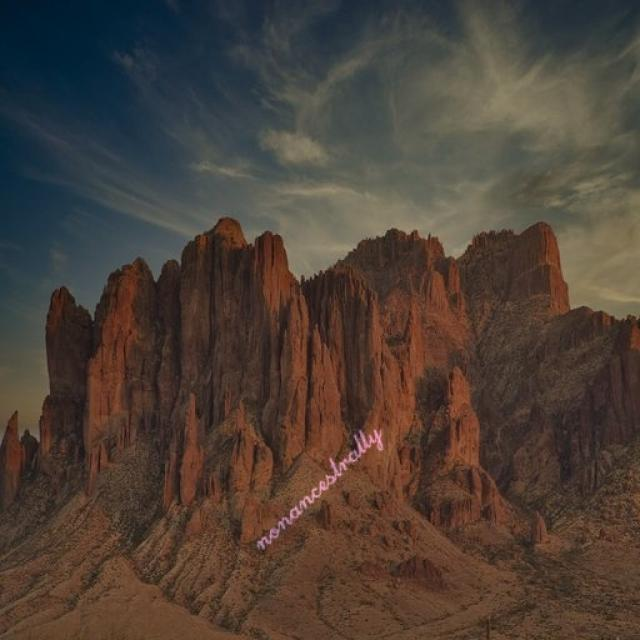watermark: (254, 410, 382, 554)
